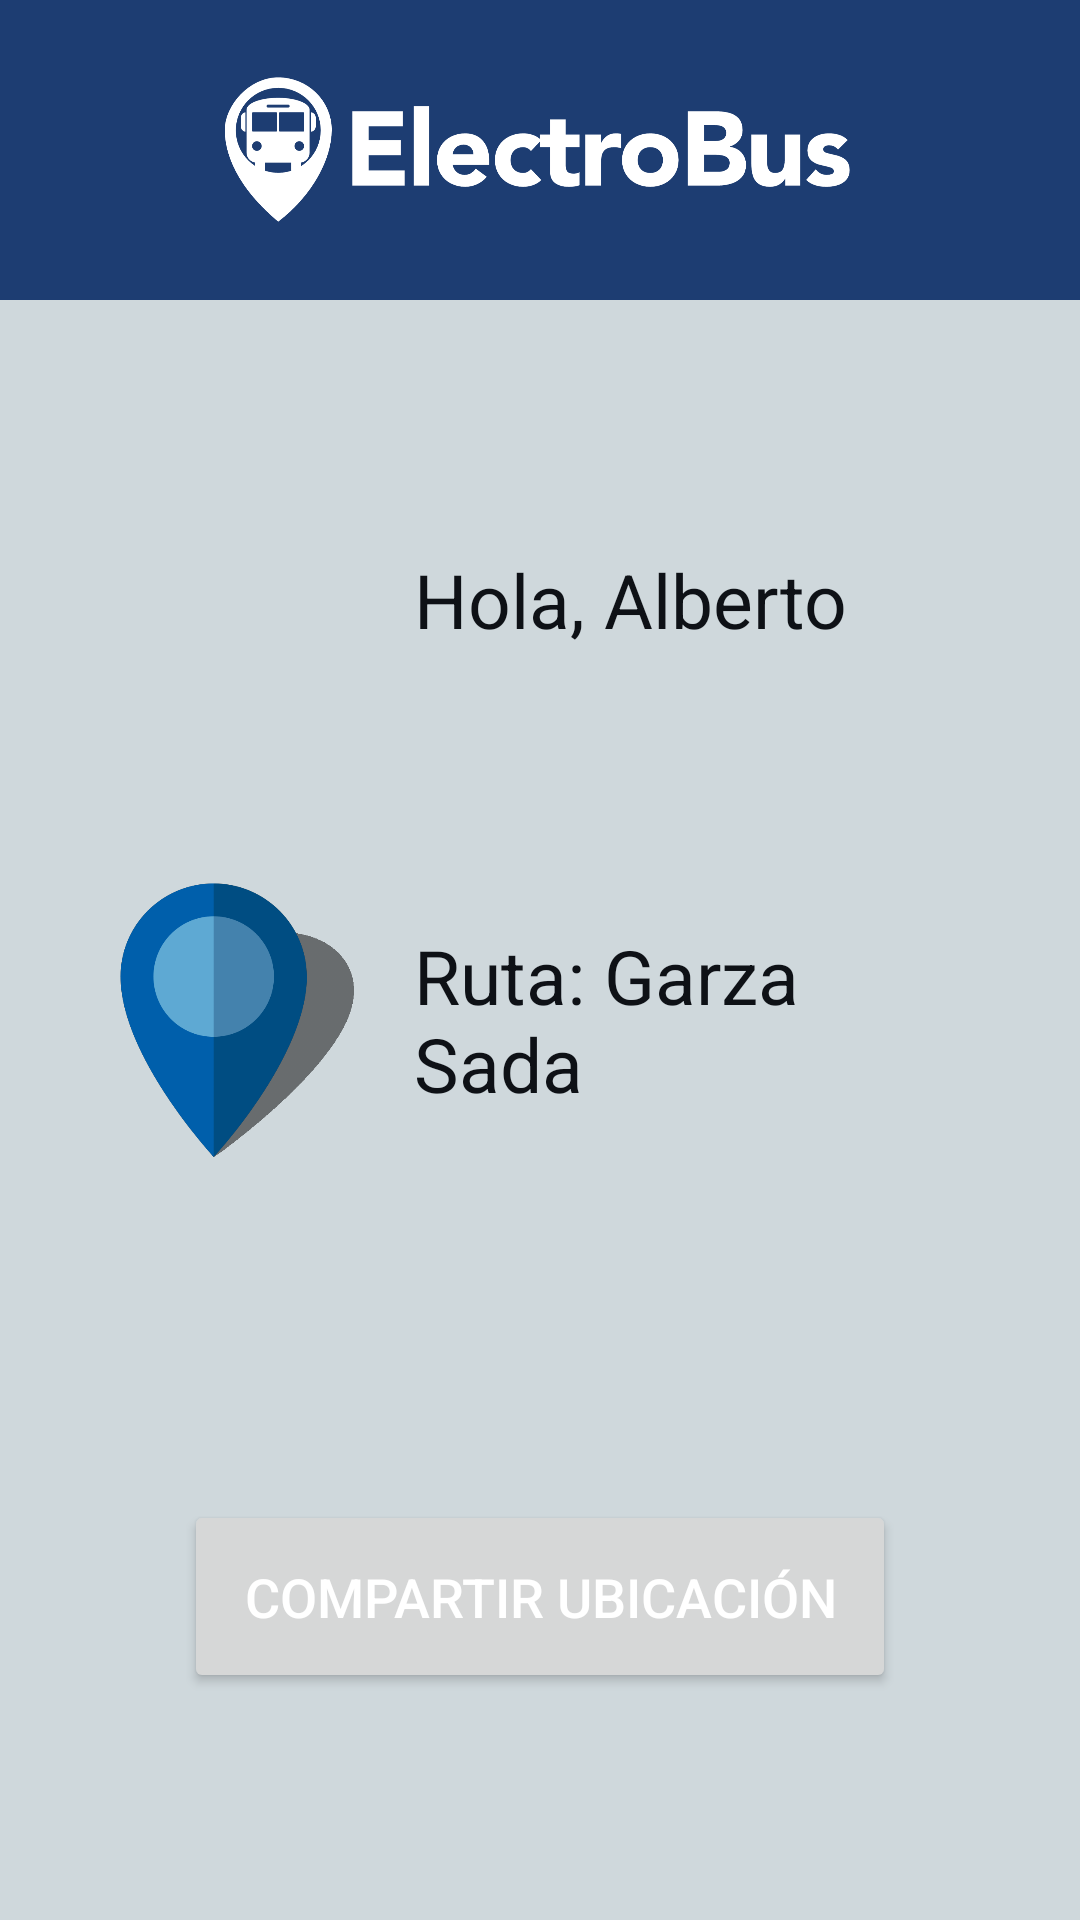

Named icons in this screenshot (1080 × 1920) and their centers, [x,y]:
location: [237,1020]
